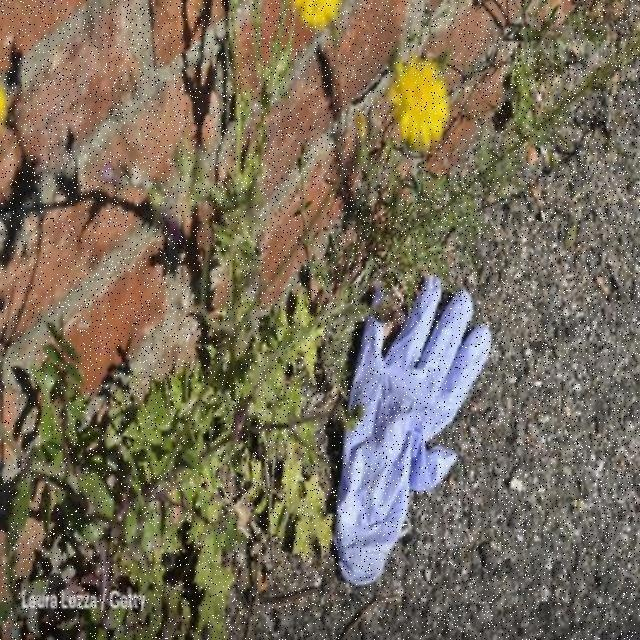Guantes: (332, 273, 492, 586)
